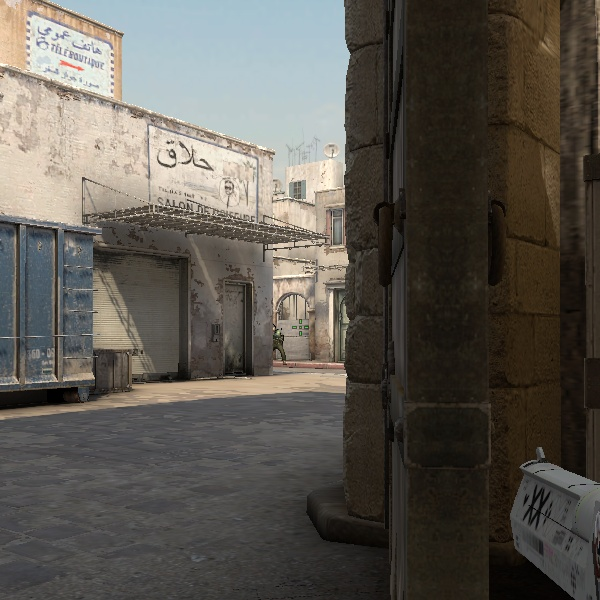ct_body: (271, 321, 290, 367)
